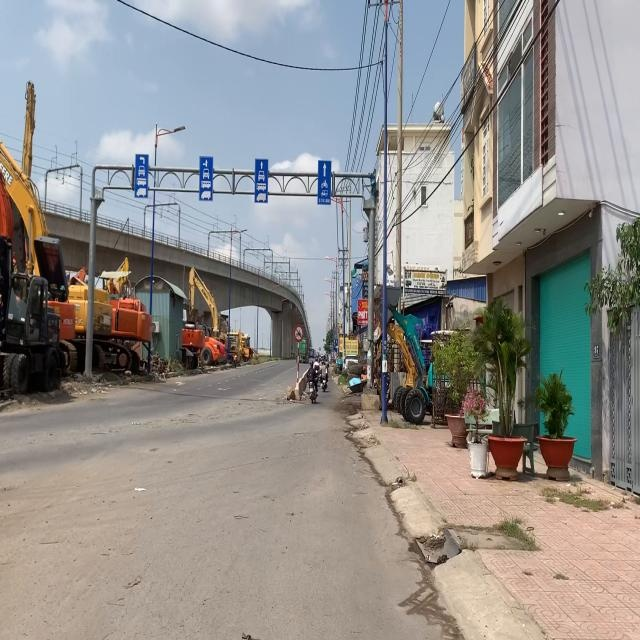bien_cam: (294, 324, 304, 342)
